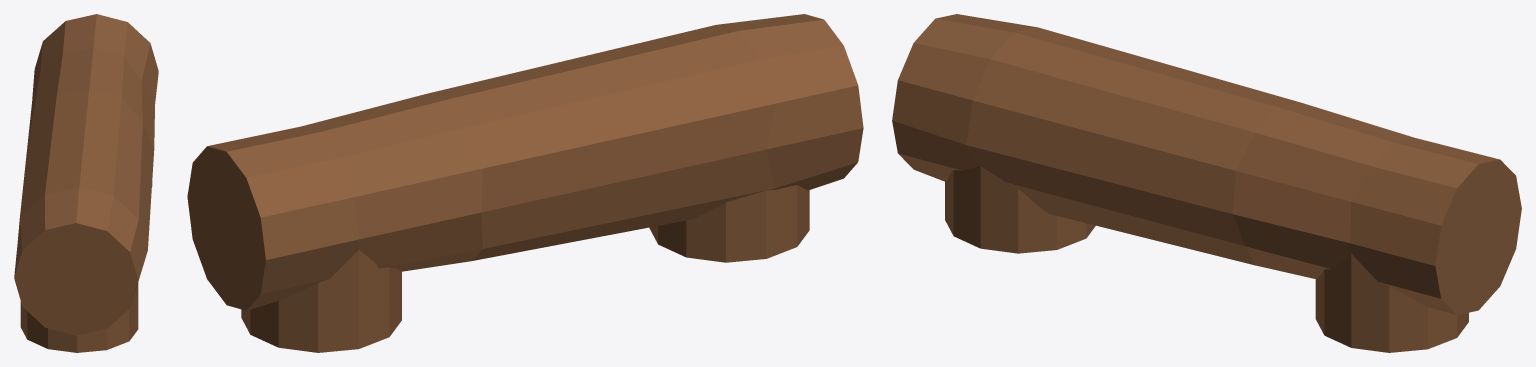
The model's file is logBench.glb.
The picture shows the model from 3 angles, left to right: view 1: azimuth 30°, elevation 25°; view 2: azimuth 150°, elevation 25°; view 3: azimuth 270°, elevation 25°; orthographic projection. The views are drawn at different scales.
Parts seen in each view (by area): view 1: log bench; view 2: log bench; view 3: log bench.
Boxes of the visible parts, x1=… form: log bench: x1=14, y1=14, x2=158, y2=352; log bench: x1=187, y1=14, x2=863, y2=352; log bench: x1=892, y1=14, x2=1521, y2=352.
Size of the model in its own units: 0.7483 by 0.3209 by 0.9802.
